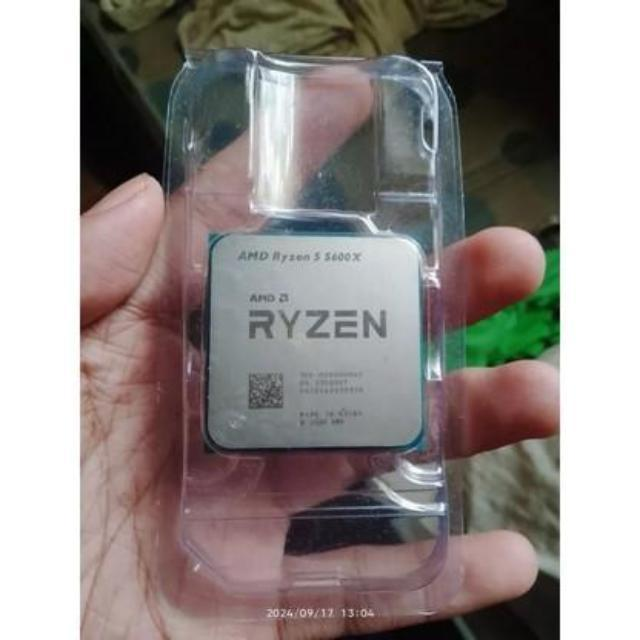CPU: (202, 228, 428, 450)
